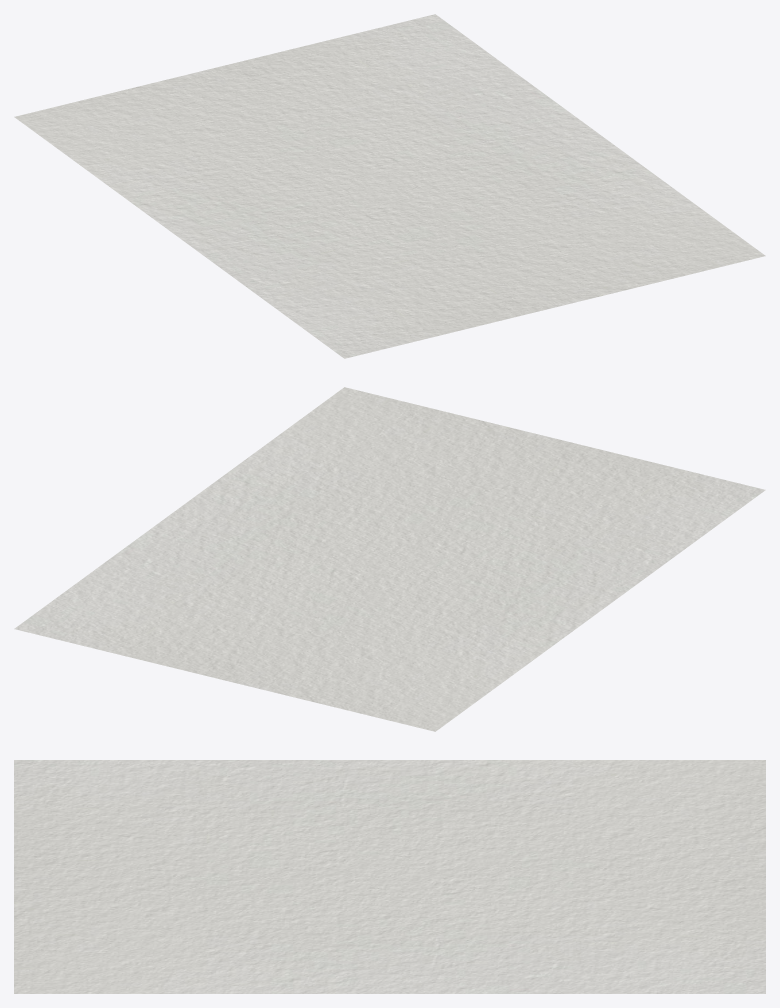
Rendered from sticker2.fbx.
The picture shows the model from 3 angles, top to bottom: view 1: azimuth 30°, elevation 25°; view 2: azimuth 150°, elevation 25°; view 3: azimuth 270°, elevation 25°; orthographic projection. The views are drawn at different scales.
Visible parts, largest first — view 1: sticker2; view 2: sticker2; view 3: sticker2.
Boxes of the visible parts, x1=… form: sticker2: x1=14, y1=14, x2=765, y2=358; sticker2: x1=14, y1=387, x2=765, y2=731; sticker2: x1=14, y1=760, x2=765, y2=993.
Bounding box in the file's own units: 100 × 9.54e-07 × 136.
